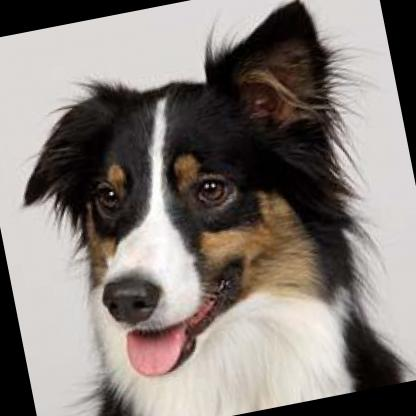collie: (0, 0, 414, 416)
